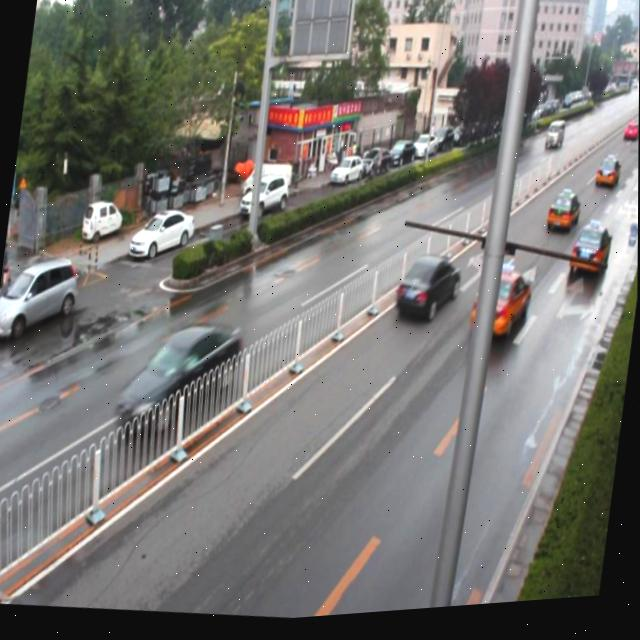car: (112, 319, 245, 441), (465, 270, 531, 349), (393, 256, 460, 331), (566, 225, 610, 289), (544, 194, 581, 239), (594, 161, 619, 199)
